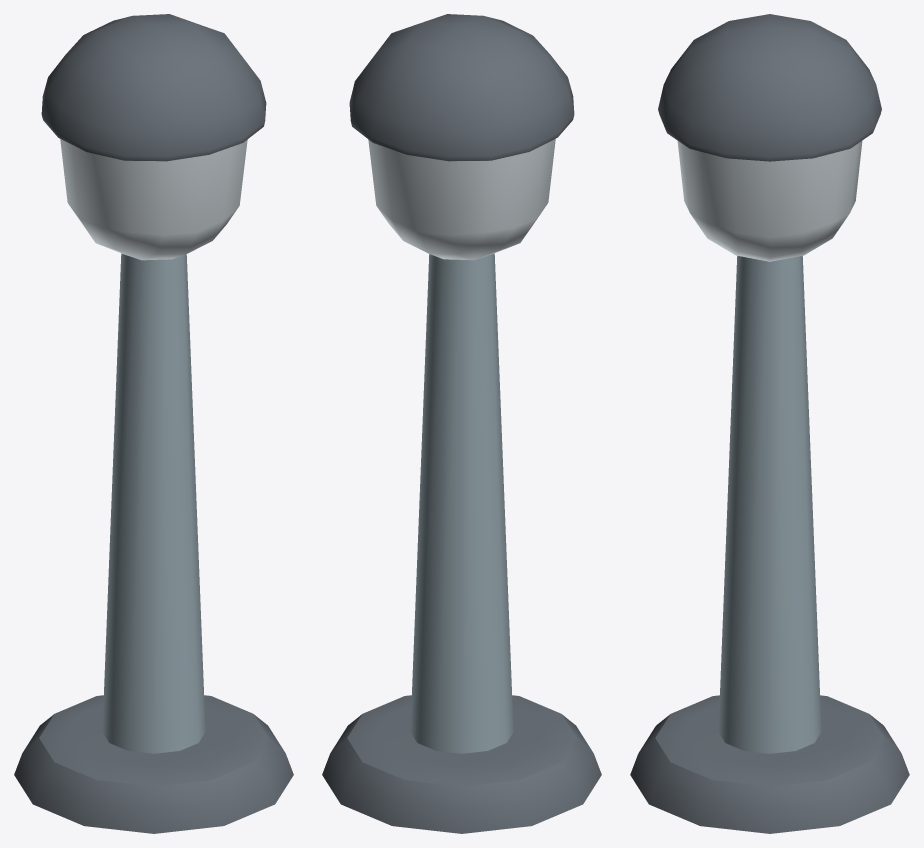
Rendered from Lamp1.fbx.
The picture shows the model from 3 angles, left to right: view 1: azimuth 30°, elevation 25°; view 2: azimuth 150°, elevation 25°; view 3: azimuth 270°, elevation 25°; orthographic projection.
Visible parts, largest first — view 1: Lamp; view 2: Lamp; view 3: Lamp.
Part boxes in pixels (x1,y1,x2,y2): Lamp: (14, 14, 293, 833); Lamp: (322, 14, 601, 833); Lamp: (630, 14, 909, 833).
Size of the model in its own units: 1605 by 4741 by 1605.
1 material, 1 textured.
